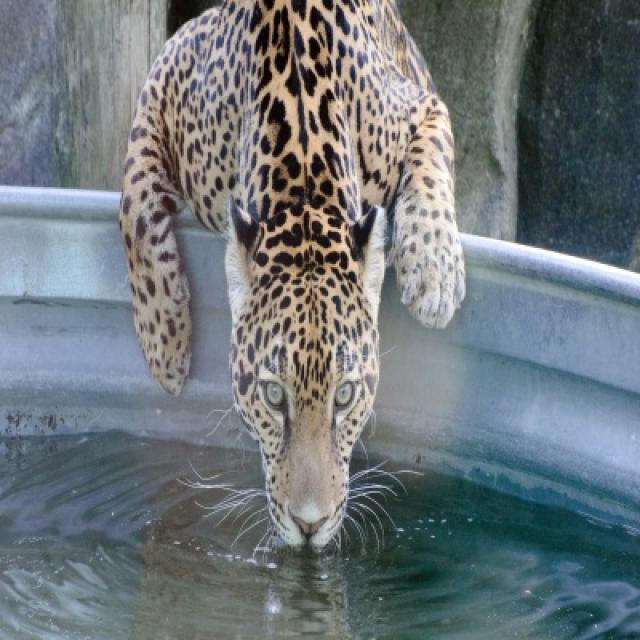Jaguar: (118, 0, 467, 552)
